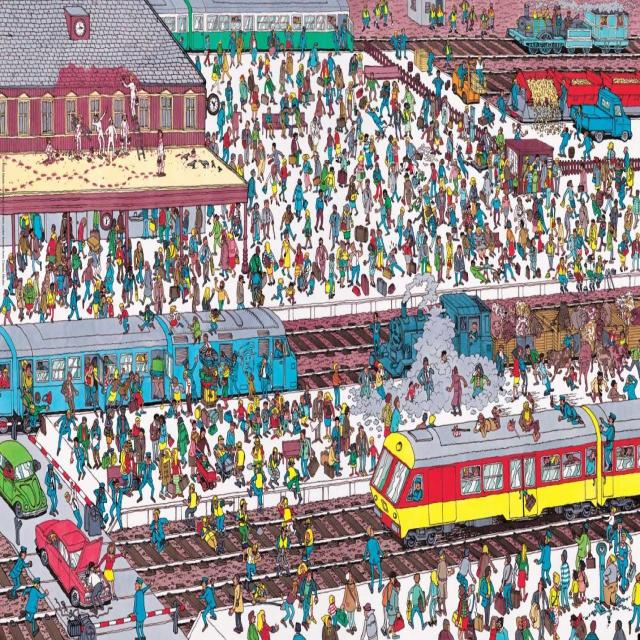waldo: (466, 203, 471, 213)
